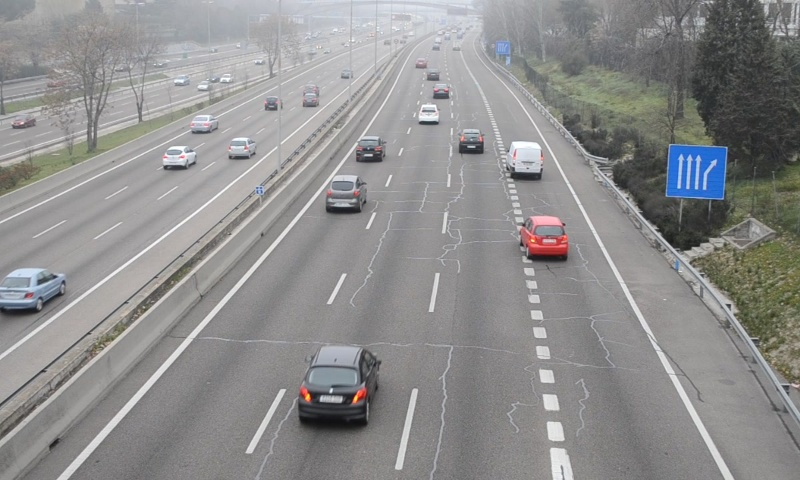car: (298, 347, 381, 422), (521, 215, 569, 258), (324, 175, 367, 210), (354, 136, 386, 163), (458, 128, 485, 154), (417, 102, 441, 124), (432, 82, 450, 98)
van: (506, 141, 544, 181)
